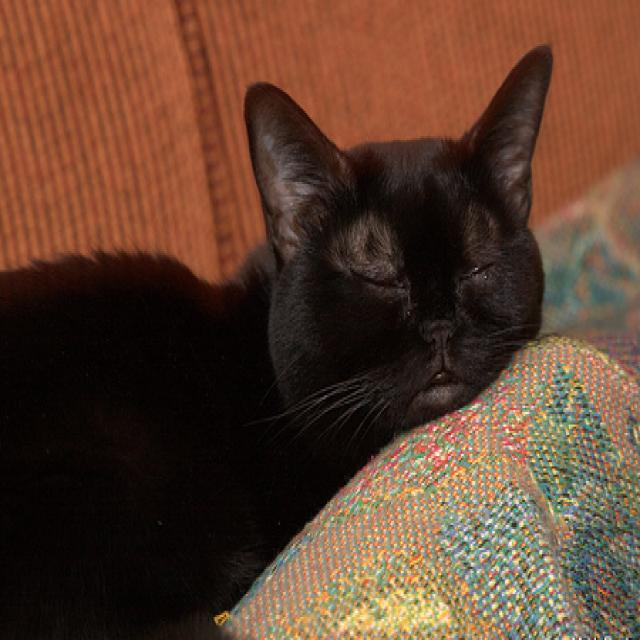Bombay: (0, 42, 555, 640)
